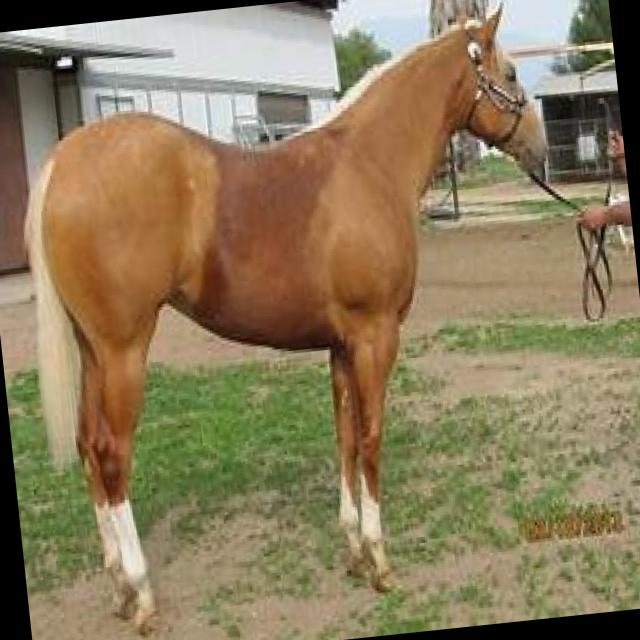animal: (9, 0, 595, 640)
